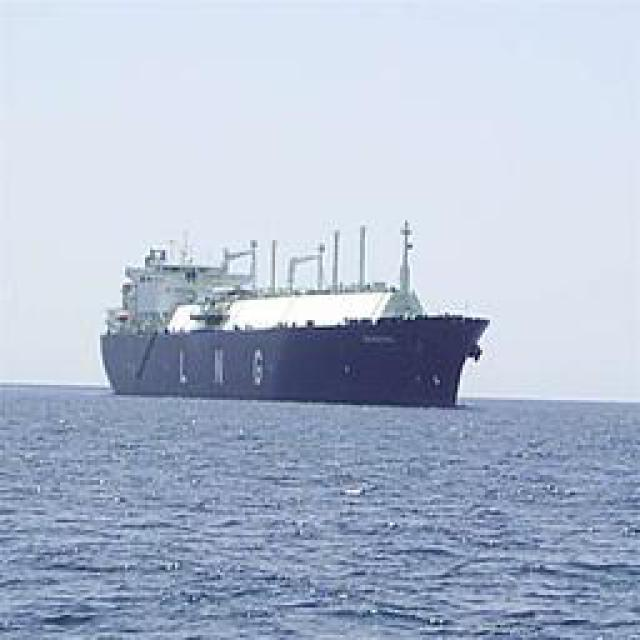Ship: (101, 217, 489, 400)
